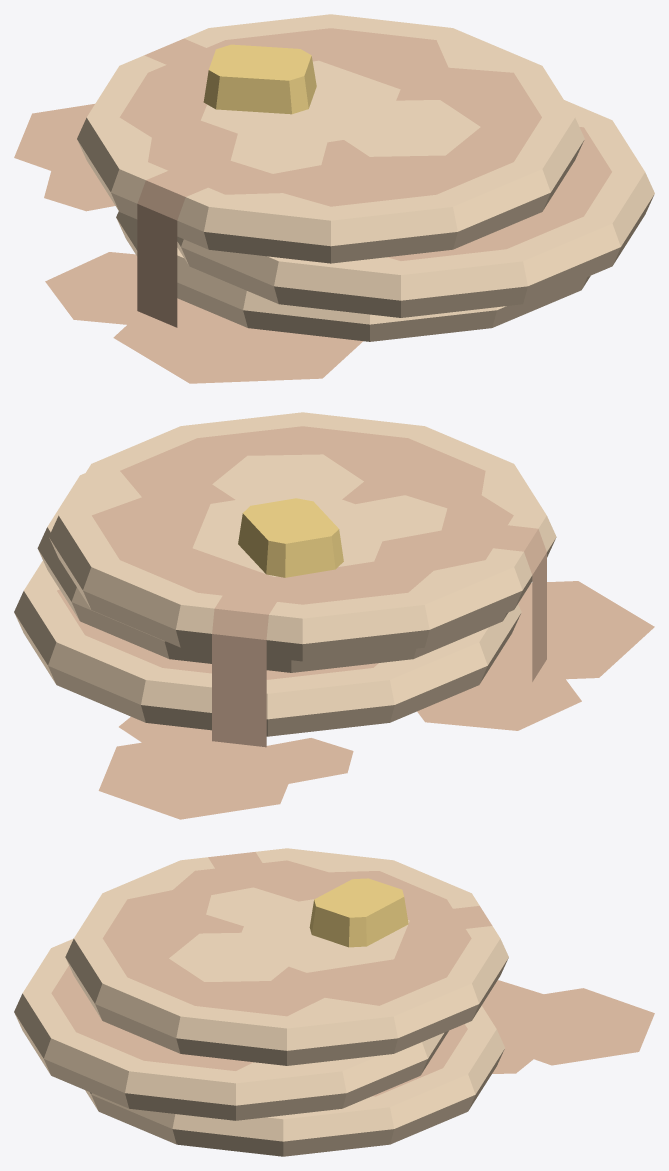
File: panCake.glb
3 renders of one model, top to bottom at view 1: azimuth 30°, elevation 25°; view 2: azimuth 150°, elevation 25°; view 3: azimuth 270°, elevation 25°, orthographic. The views are drawn at different scales.
Parts seen in each view (by area): view 1: pancake.001, pancake, pancakes, pancake.002, butter; view 2: pancake.001, pancakes, pancake.002, butter, pancake; view 3: pancake.001, pancake, pancake.002, pancakes, butter.
Boxes of the visible parts, x1,y1,x2,y2 form: pancake.001: (77,14,584,327); pancake: (177,100,654,317); pancakes: (14,104,363,383); pancake.002: (116,211,590,341); butter: (203,44,316,114); pancake.001: (49,412,556,747); pancakes: (98,581,654,819); pancake.002: (14,561,521,736); butter: (238,498,343,577); pancake: (37,473,508,672); pancake.001: (65,848,508,1065); pancake: (14,938,448,1120); pancake.002: (85,1005,504,1156); pancakes: (482,980,654,1073); butter: (309,878,408,947).
Size of the model in its own units: 0.4195 by 0.1216 by 0.5039.
